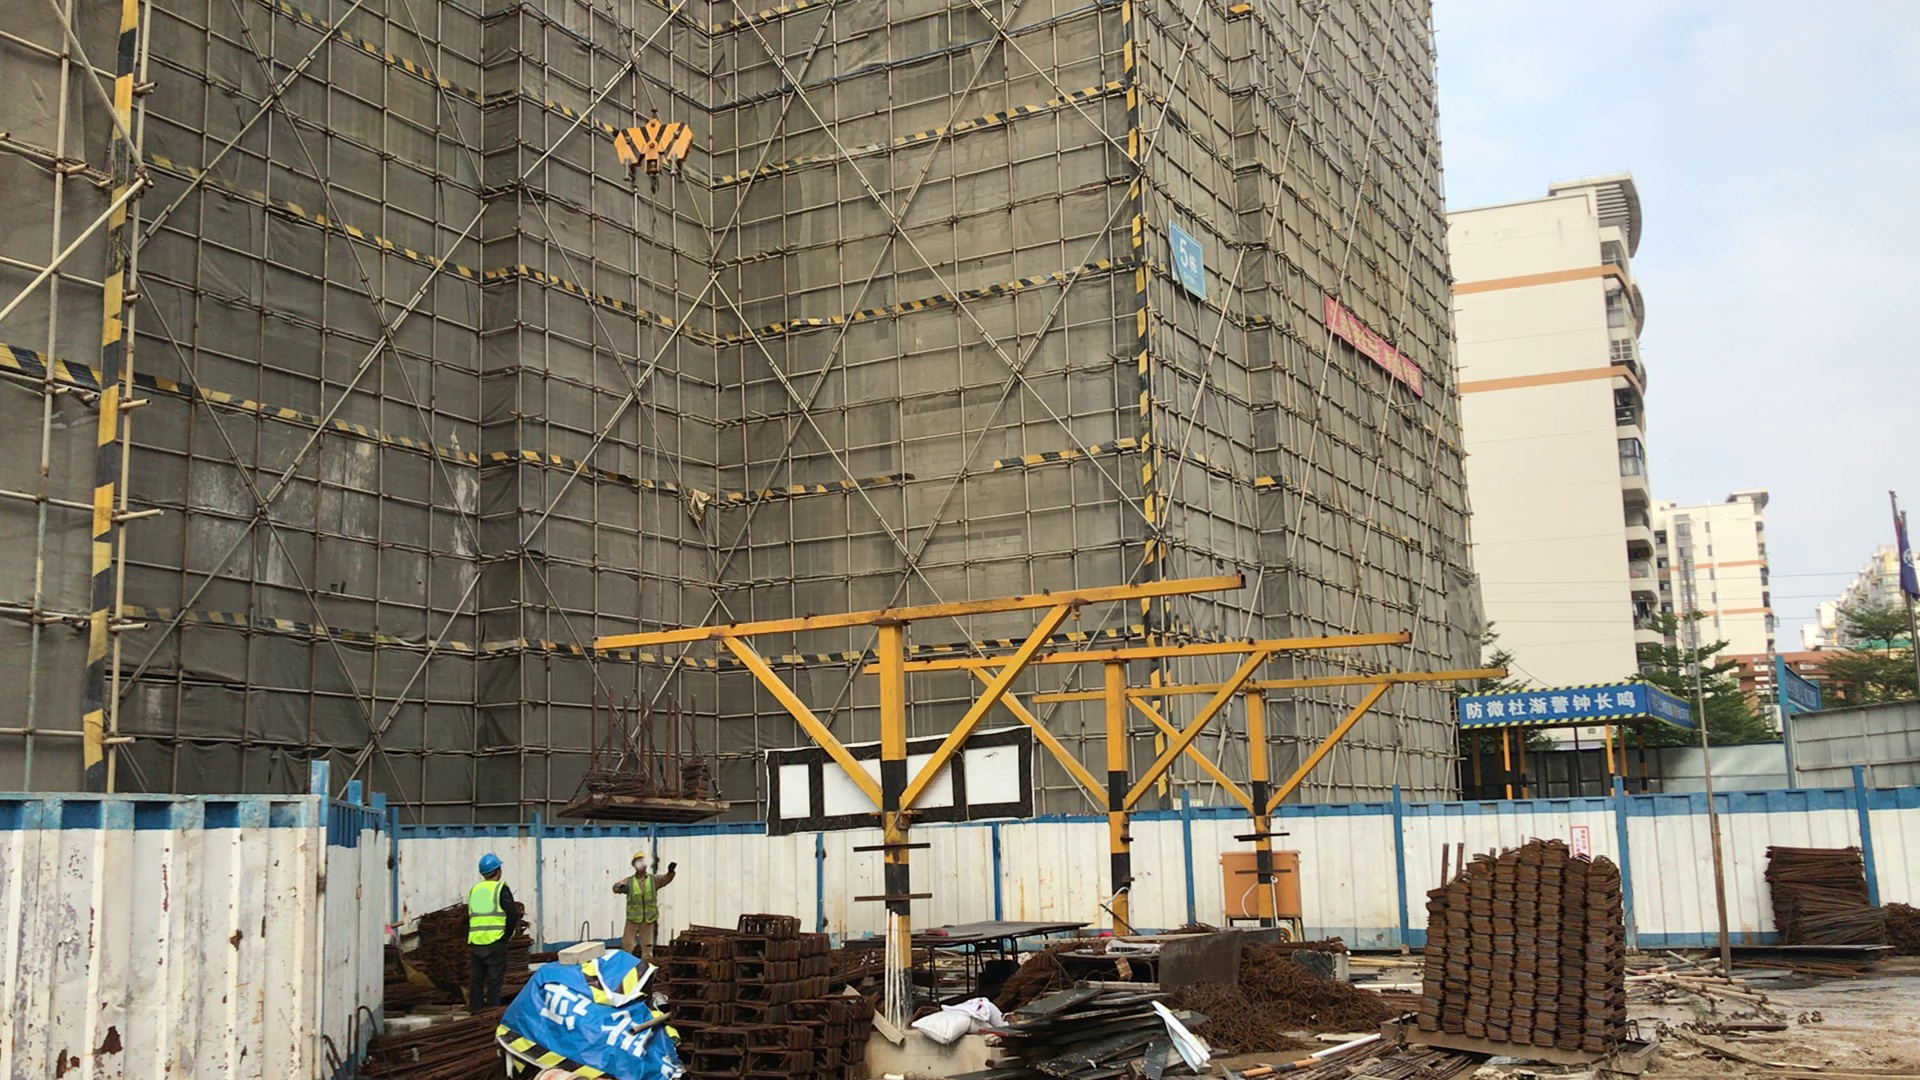ebox: (1215, 853, 1312, 924)
helmet: (476, 854, 504, 872), (628, 849, 648, 861)
hook: (612, 116, 701, 183)
person: (444, 846, 529, 1011), (610, 848, 688, 971)
slogan: (1460, 685, 1642, 718)
vest: (469, 879, 507, 943), (624, 875, 660, 925)
